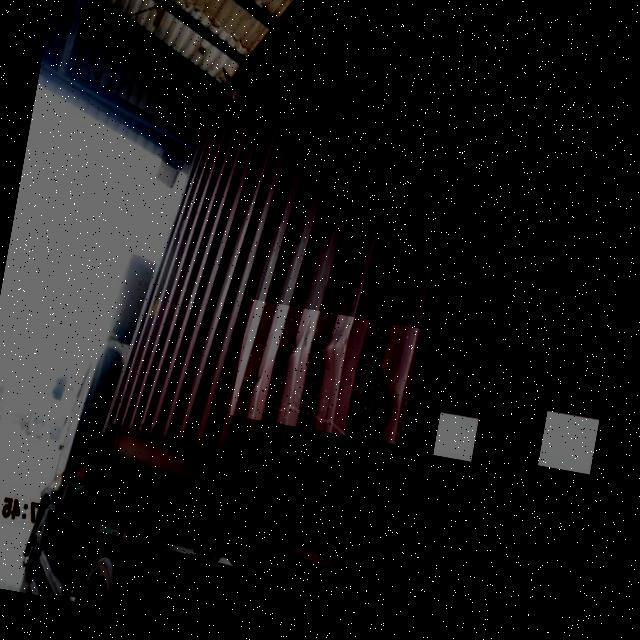Dent: (229, 299, 420, 445)
